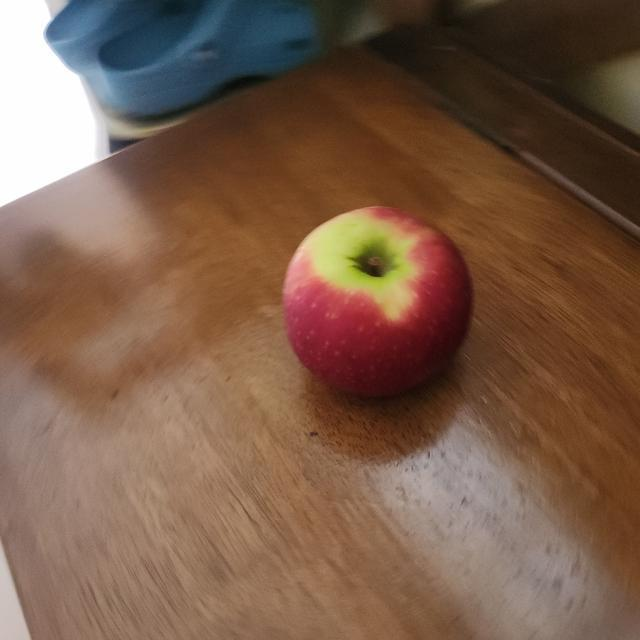apple: (276, 199, 479, 413)
